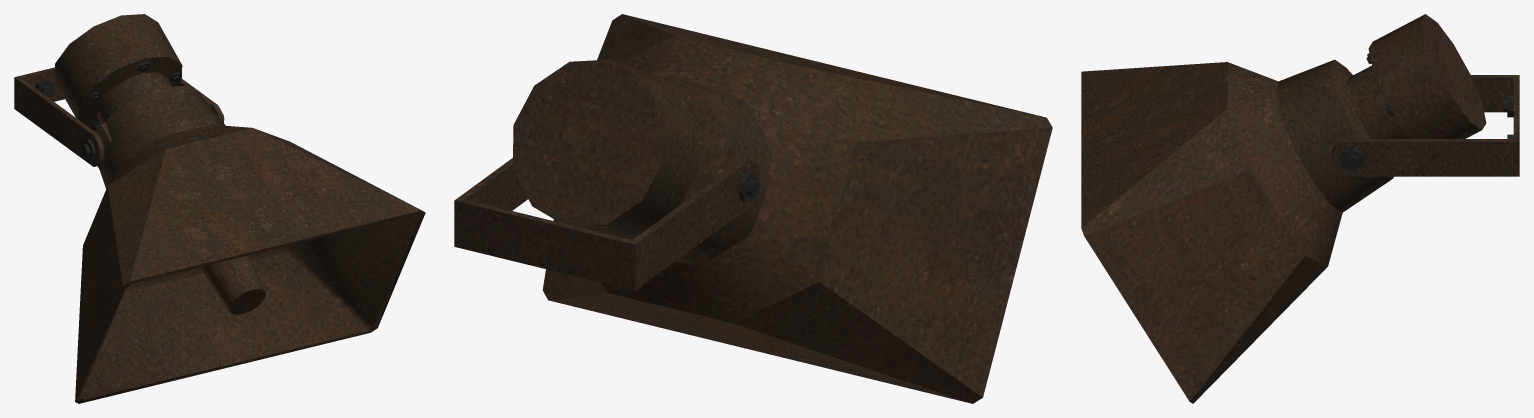
File: speaker_mx_1_2.glb
The picture shows the model from 3 angles, left to right: view 1: azimuth 30°, elevation 25°; view 2: azimuth 150°, elevation 25°; view 3: azimuth 270°, elevation 25°; orthographic projection. The views are drawn at different scales.
Visible parts, largest first — view 1: speaker_mx_1_2; view 2: speaker_mx_1_2; view 3: speaker_mx_1_2.
Part boxes in pixels (x1,y1,x2,y2): speaker_mx_1_2: (14,14,425,403); speaker_mx_1_2: (454,14,1052,403); speaker_mx_1_2: (1081,14,1519,403).
Size of the model in its own units: 0.4947 by 0.4325 by 0.564.
Materials: 2 (2 with a texture image).
